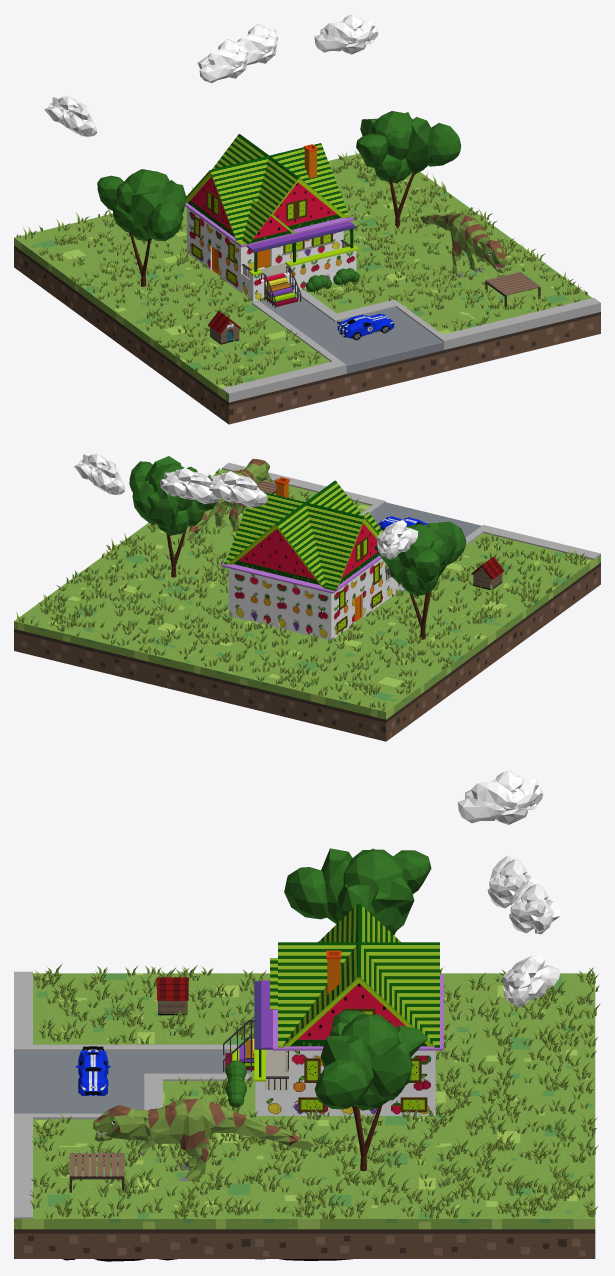
3 renders of one model, top to bottom at view 1: azimuth 30°, elevation 25°; view 2: azimuth 150°, elevation 25°; view 3: azimuth 270°, elevation 25°, orthographic. The views are drawn at different scales.
Parts seen in each view (by area): view 1: Cube.006, Cube.1063, Circle.012_Grass_0.192, Cube.007, tree, tree.001, ANIMAL_TREX, VEHICLES_RACING_CAR, Cube.009, OBJRANDOM_DOGHOUSE; view 2: Cube.006, Cube.1063, Circle.012_Grass_0.192, Cube.007, tree.001, tree, ANIMAL_TREX, OBJRANDOM_DOGHOUSE; view 3: Cube.006, Circle.012_Grass_0.192, Cube.1063, tree, Cube.007, tree.001, ANIMAL_TREX, Cube.009, VEHICLES_RACING_CAR, OBJRANDOM_DOGHOUSE.
Part boxes in pixels (x1,y1,x2,y2): Cube.006: [14, 153, 600, 424]; Cube.1063: [185, 134, 358, 307]; Circle.012_Grass_0.192: [16, 151, 587, 386]; Cube.007: [44, 14, 378, 136]; tree: [356, 111, 460, 228]; tree.001: [97, 169, 186, 286]; ANIMAL_TREX: [420, 213, 507, 277]; VEHICLES_RACING_CAR: [337, 313, 394, 340]; Cube.009: [485, 272, 540, 306]; OBJRANDOM_DOGHOUSE: [208, 311, 241, 344]; Cube.006: [14, 463, 600, 741]; Cube.1063: [221, 477, 397, 640]; Circle.012_Grass_0.192: [16, 468, 587, 711]; Cube.007: [74, 453, 418, 559]; tree.001: [374, 521, 466, 639]; tree: [129, 456, 216, 577]; ANIMAL_TREX: [184, 458, 269, 540]; OBJRANDOM_DOGHOUSE: [471, 557, 504, 589]; Cube.006: [14, 971, 595, 1258]; Circle.012_Grass_0.192: [29, 963, 600, 1220]; Cube.1063: [223, 903, 443, 1115]; tree: [314, 1010, 427, 1171]; Cube.007: [457, 770, 560, 1007]; tree.001: [284, 848, 431, 935]; ANIMAL_TREX: [93, 1099, 314, 1181]; Cube.009: [69, 1152, 124, 1192]; VEHICLES_RACING_CAR: [75, 1046, 110, 1095]; OBJRANDOM_DOGHOUSE: [156, 977, 188, 1015].
Size of the model in its own units: 4071 by 2149 by 4040.
Materials: 39 (5 with a texture image).
